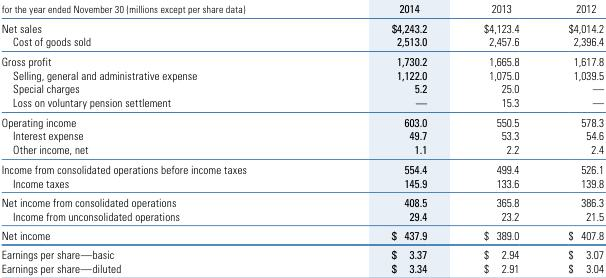table: (0, 1, 603, 275)
table column: (0, 1, 318, 275), (318, 1, 454, 275), (454, 1, 543, 275), (543, 1, 603, 275)
table column header: (0, 1, 603, 17)
table row: (0, 225, 603, 244), (0, 17, 603, 34), (0, 50, 603, 67), (0, 111, 603, 128), (0, 158, 603, 175), (0, 191, 603, 208), (0, 208, 603, 225), (0, 244, 603, 261), (0, 1, 603, 17), (0, 34, 603, 50), (0, 95, 603, 111), (0, 142, 603, 158), (0, 175, 603, 191), (0, 67, 603, 81), (0, 81, 603, 95), (0, 128, 603, 142), (0, 261, 603, 275)
